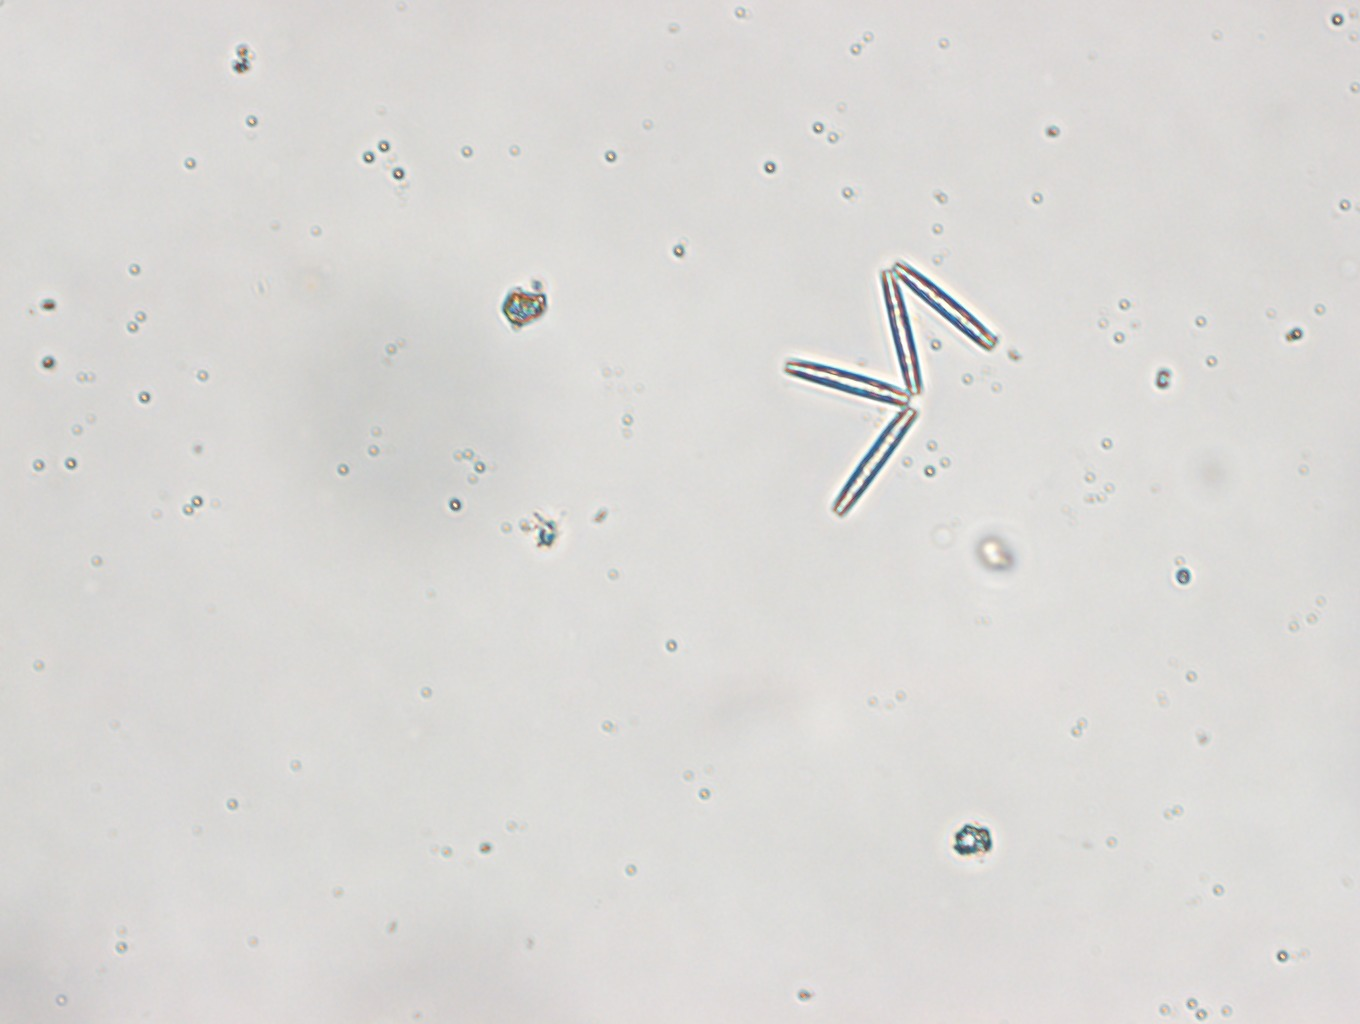thalassionema nitzschioides: (781, 256, 1002, 520)
